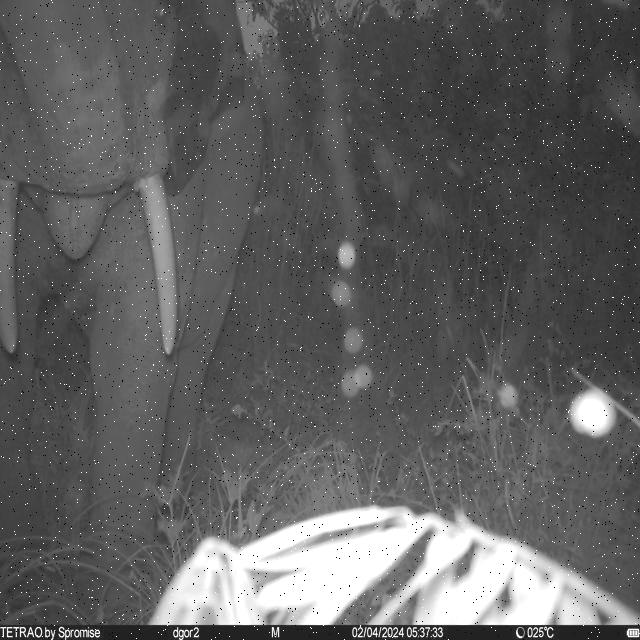elephant: (0, 0, 266, 553)
tusk: (135, 172, 178, 358), (0, 179, 25, 354)
